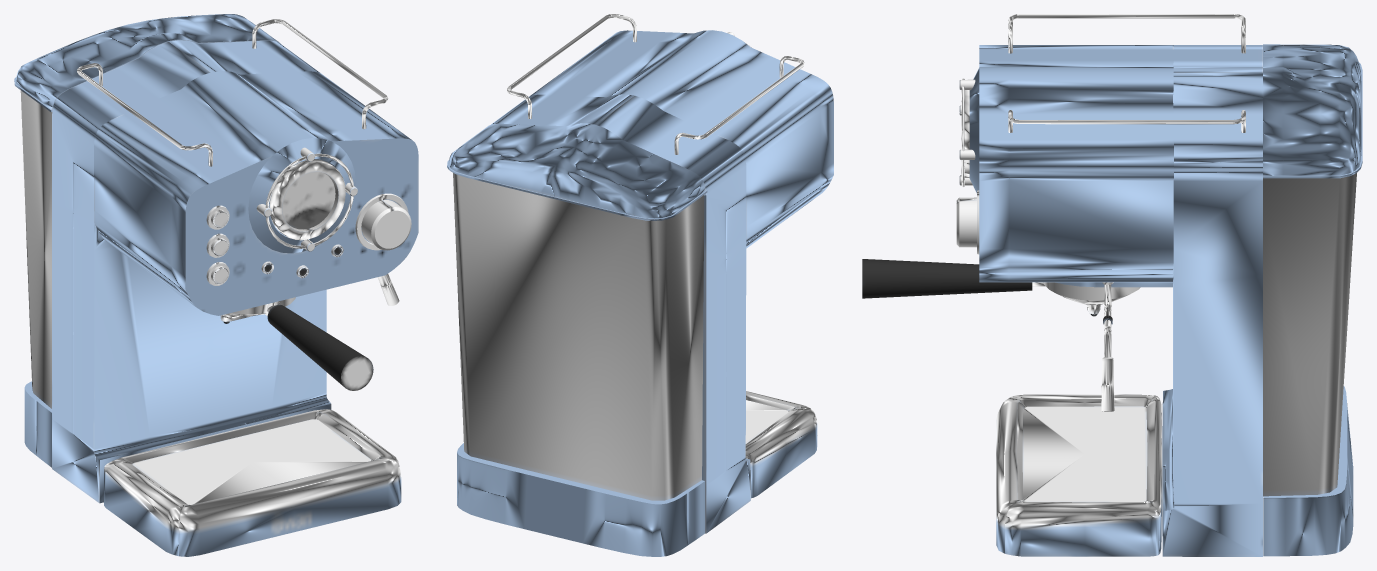
File: coffee-machine-swan-retro-blue-15bar-f5ed8e.glb
3 views of the same model, side by side, from view 1: azimuth 30°, elevation 25°; view 2: azimuth 150°, elevation 25°; view 3: azimuth 270°, elevation 25° (orthographic). The views are drawn at different scales.
Visible parts, largest first — view 1: PropMesh; view 2: PropMesh; view 3: PropMesh.
Part boxes in pixels (x1=…): PropMesh: x1=14, y1=14, x2=418, y2=556; PropMesh: x1=447, y1=14, x2=833, y2=556; PropMesh: x1=862, y1=14, x2=1362, y2=556.
Bounding box in the file's own units: 0.2486 × 0.35 × 0.3696.
Materials: 1 (1 with a texture image).
